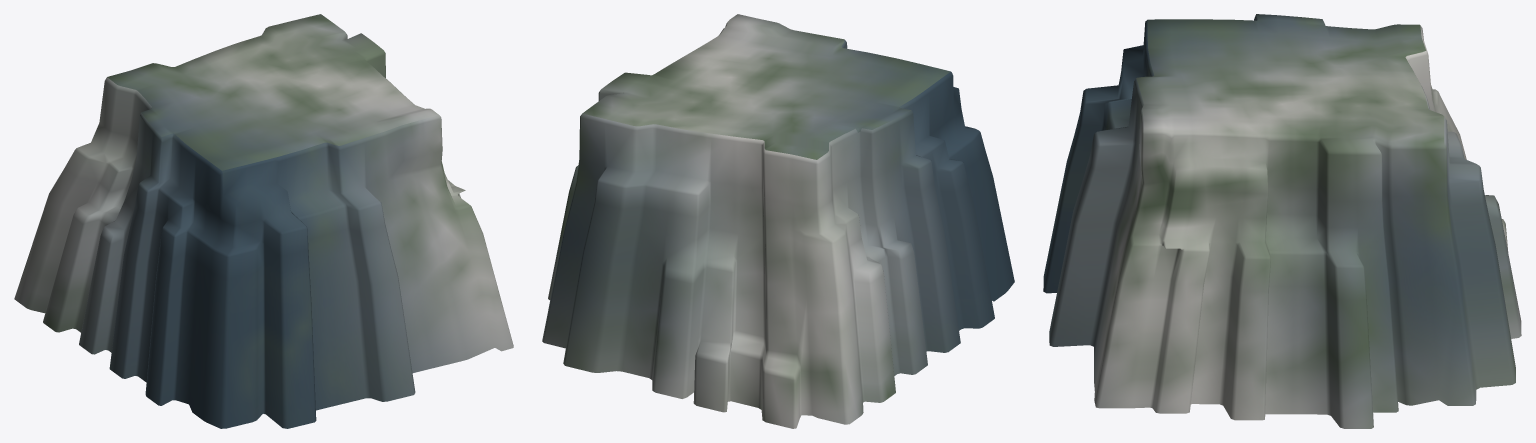
The model's file is Land Rock1.fbx.
3 renders of one model, left to right at view 1: azimuth 30°, elevation 25°; view 2: azimuth 150°, elevation 25°; view 3: azimuth 270°, elevation 25°, orthographic. The views are drawn at different scales.
Parts seen in each view (by area): view 1: Cube.001; view 2: Cube.001; view 3: Cube.001.
Part boxes in pixels (left/top/right/bottom): Cube.001: left=14, top=14, right=513, bottom=428; Cube.001: left=542, top=14, right=1014, bottom=428; Cube.001: left=1043, top=14, right=1521, bottom=428.
Bounding box in the file's own units: 186 × 120 × 196.
